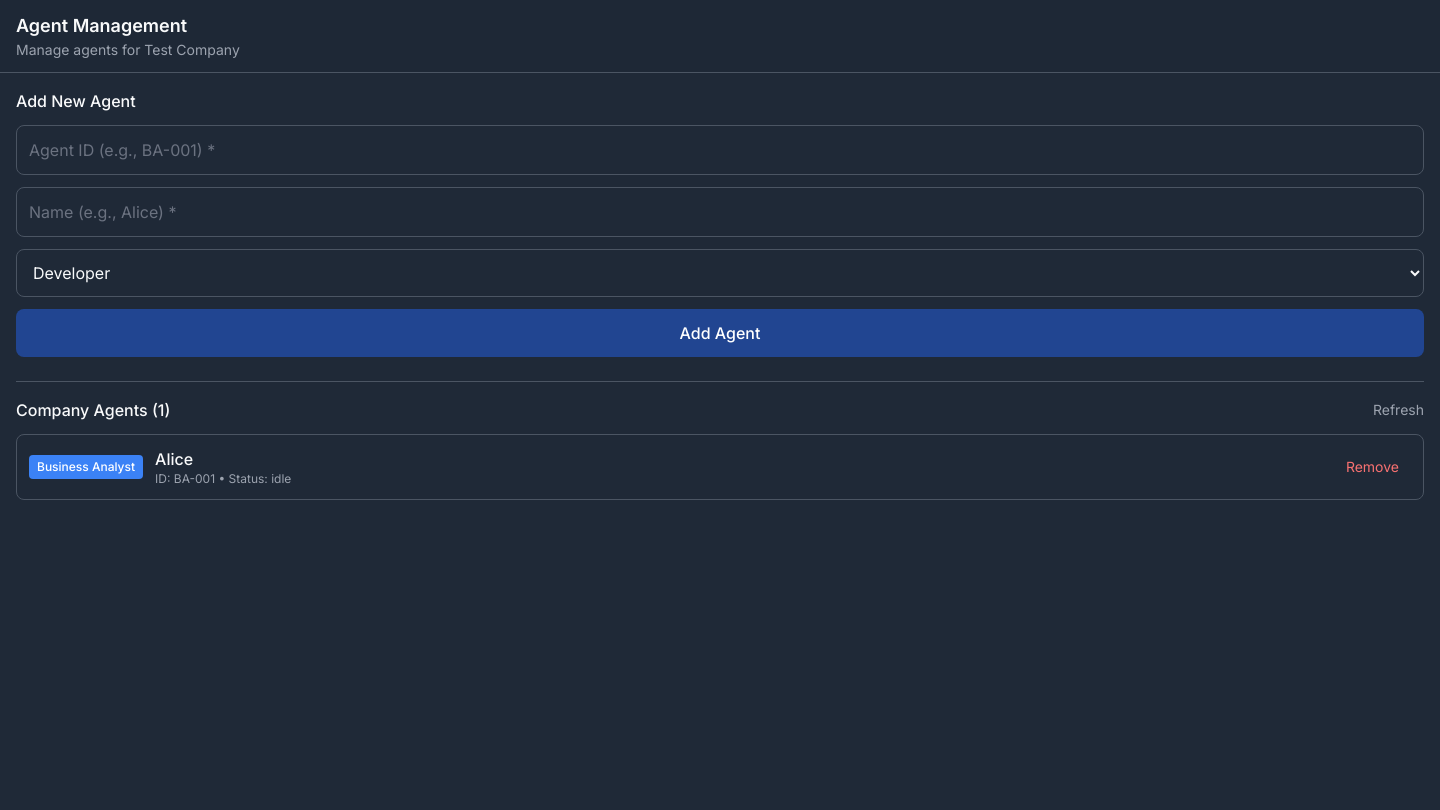
AgentManagement › AC3: Agent removal › shows confirmation dialog when Remove is clicked
Expected: the text "Alice" is shown, [155,449,193,469]
Click the button "Remove" at (1372, 467), box [1334,453,1411,481]
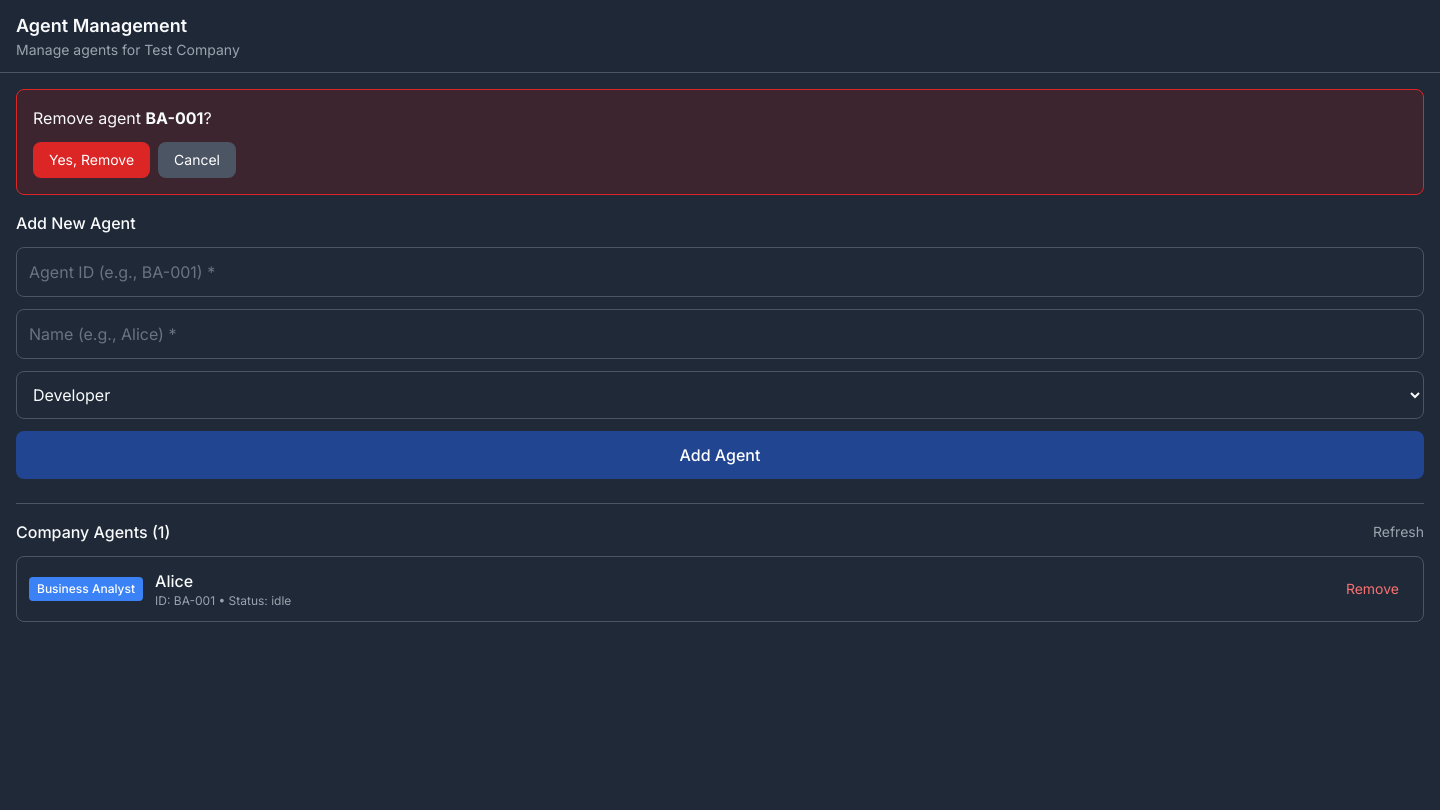
Result: the text "Remove agent BA-001?" is shown at [33,108,212,128]
Result: the button "Yes, Remove" is shown at [33,142,150,178]
Result: the button "Cancel" is shown at [158,142,236,178]
